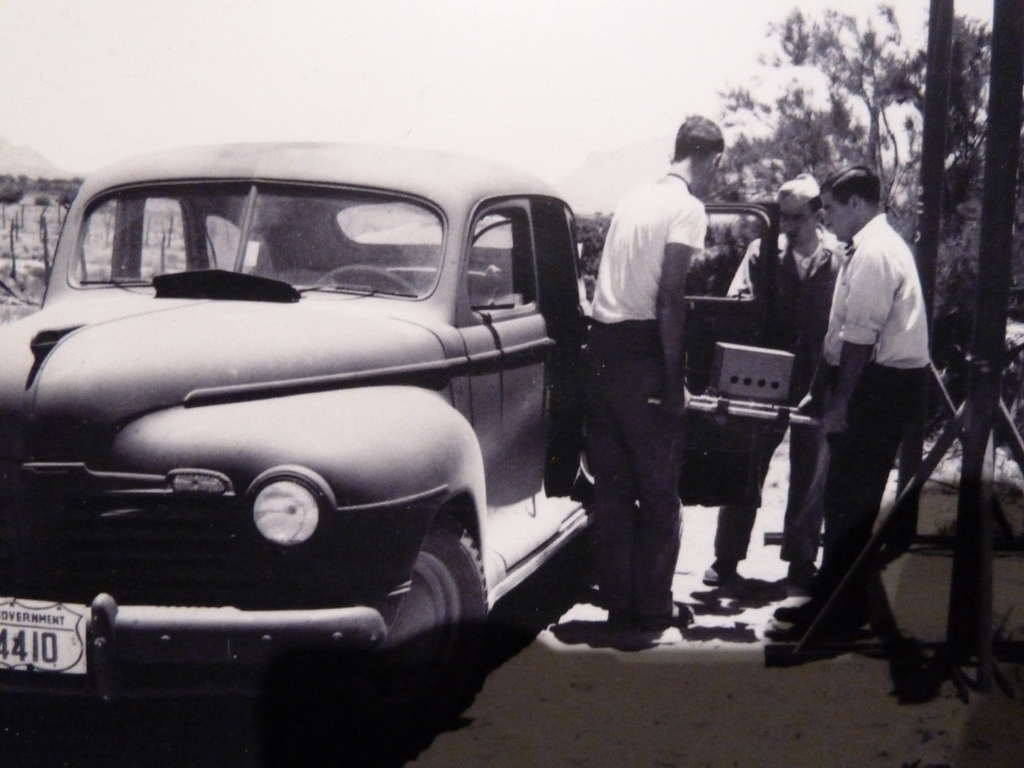Car: (0, 152, 640, 671)
